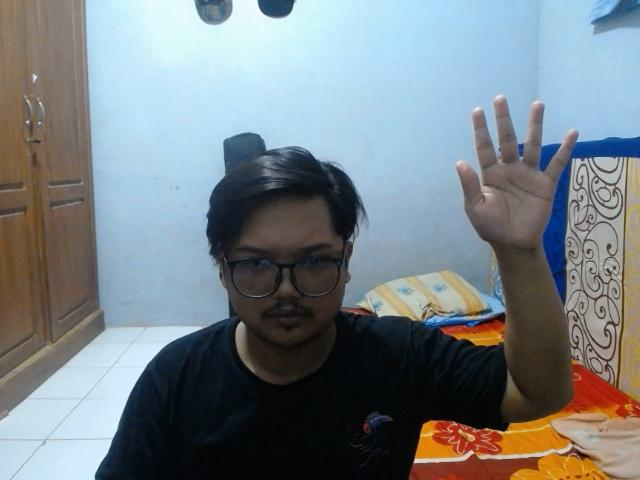Release: (449, 90, 582, 264)
